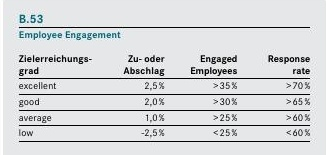table: (0, 0, 326, 155)
